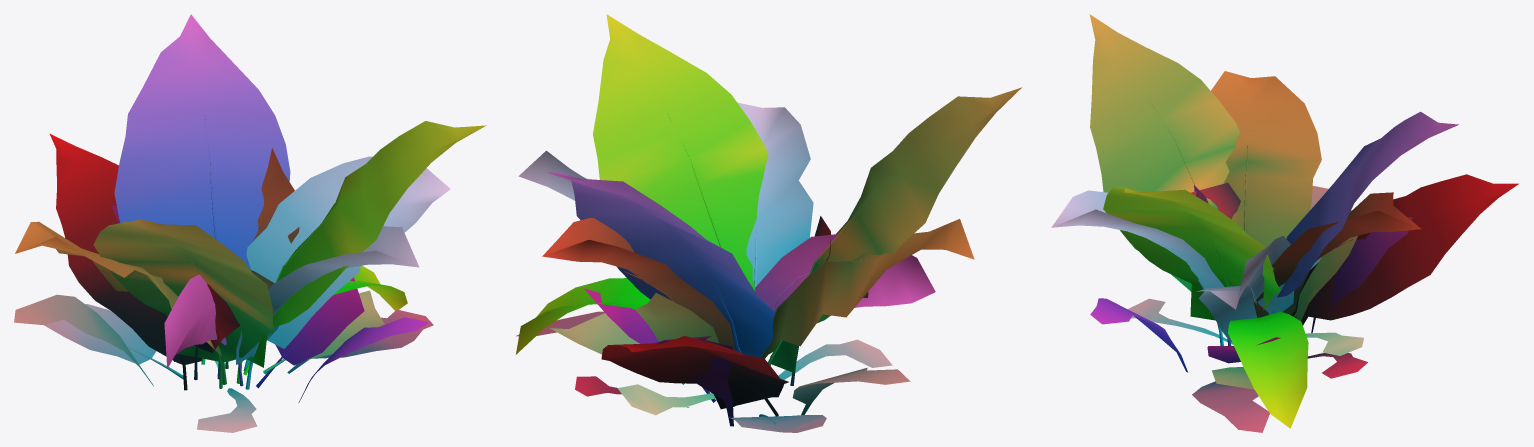
Rendered from Lady_Fern_wdvlditia_Mid_wdvlditia_VarF_LOD0.fbx.
3 renders of one model, left to right at view 1: azimuth 30°, elevation 25°; view 2: azimuth 150°, elevation 25°; view 3: azimuth 270°, elevation 25°, orthographic. The views are drawn at different scales.
Parts seen in each view (by area): view 1: _d4u1_VarF_LOD2; view 2: _d4u1_VarF_LOD2; view 3: _d4u1_VarF_LOD2.
Part boxes in pixels (x1,y1,x2,y2): _d4u1_VarF_LOD2: (14,14,486,432); _d4u1_VarF_LOD2: (516,14,1021,432); _d4u1_VarF_LOD2: (1051,14,1518,432).
Size of the model in its own units: 134 by 84.74 by 133.
